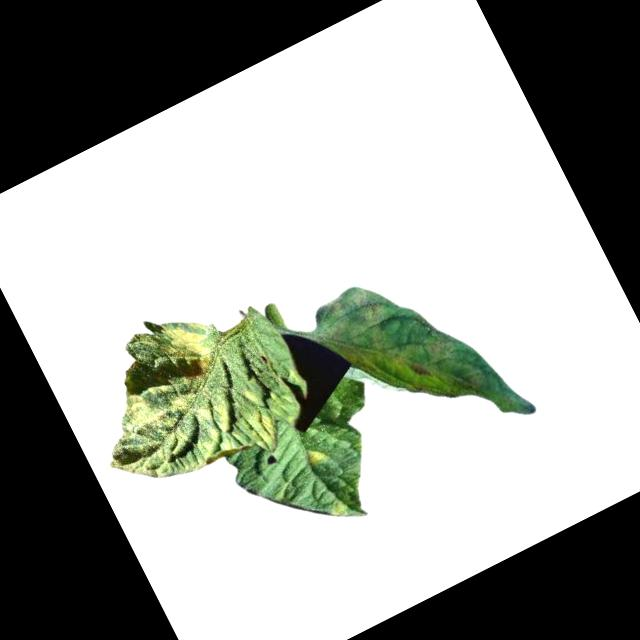Leaf_Mold: (64, 287, 287, 515), (309, 279, 414, 405), (301, 442, 331, 473)
